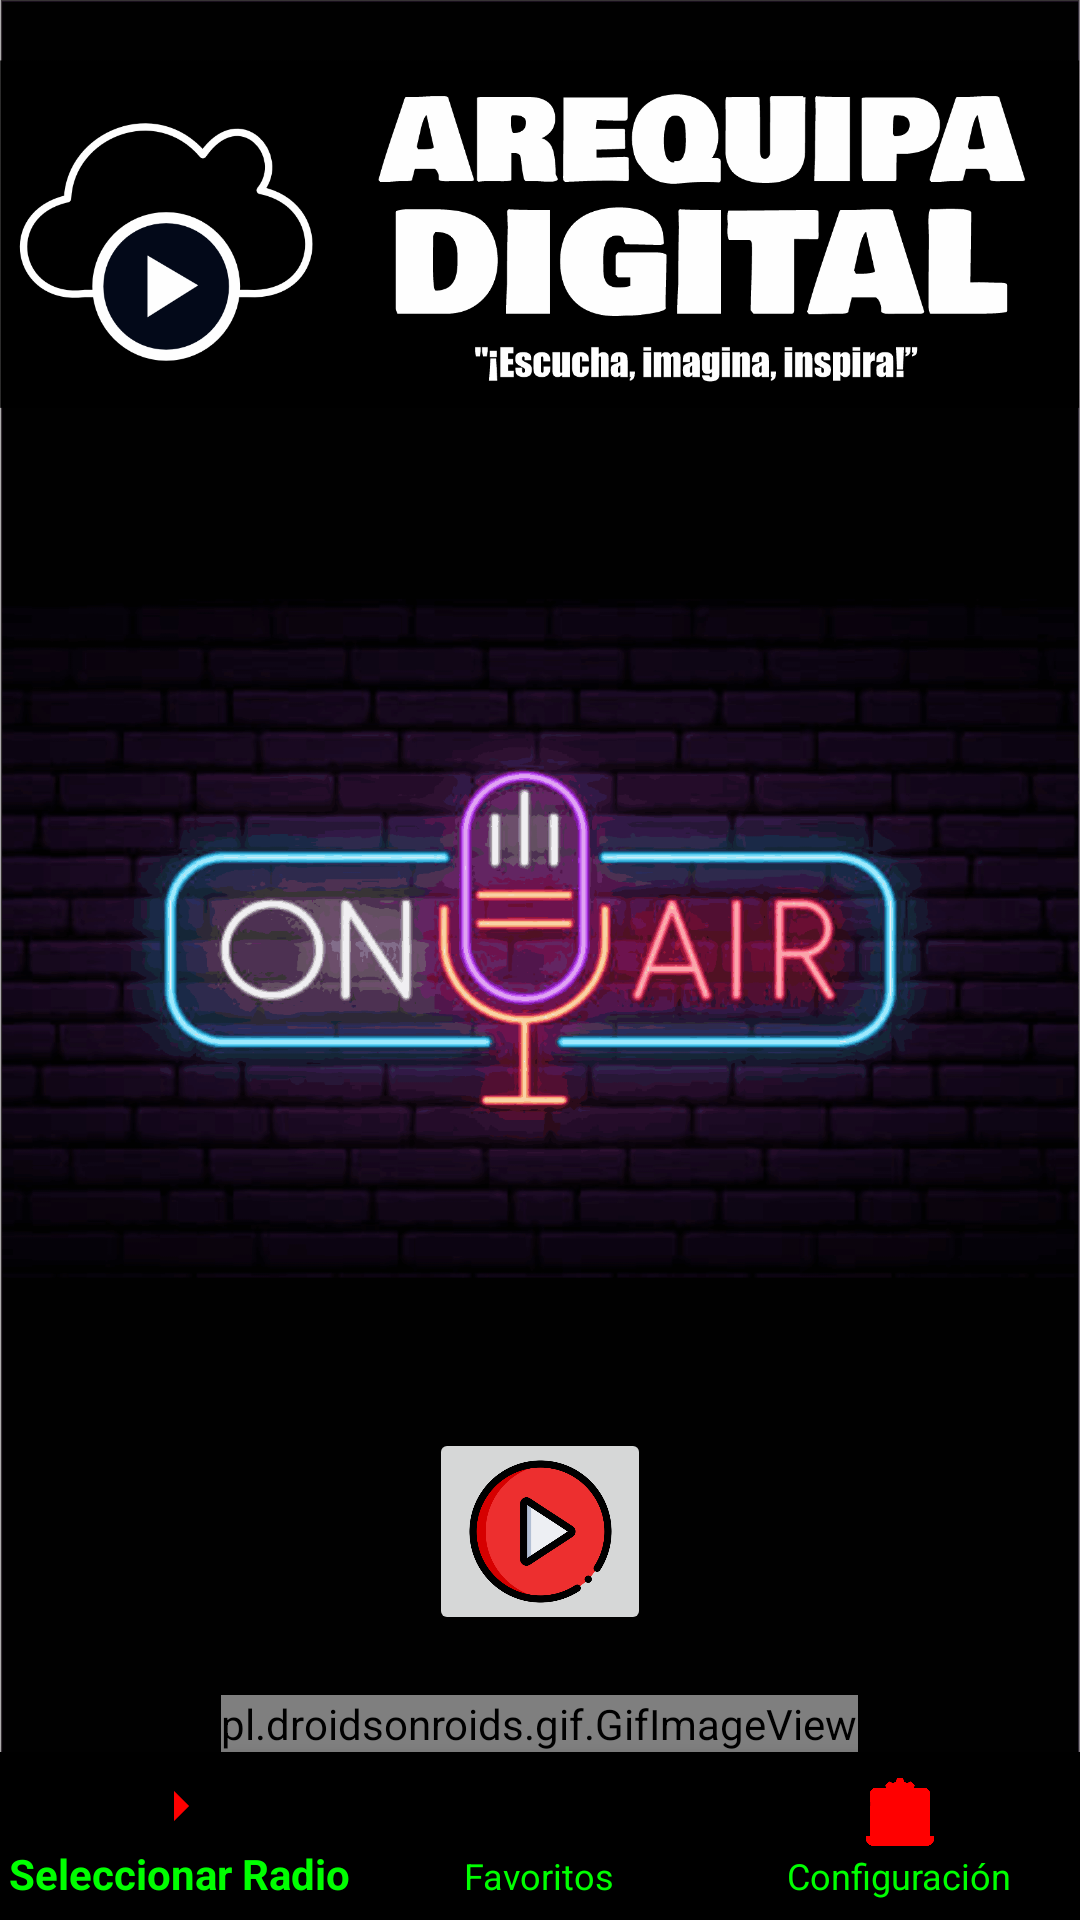

Point at icon controls on the screen. Image size 1080x1920, points as point (x, y).
btnplayuno: point (540, 1531)
